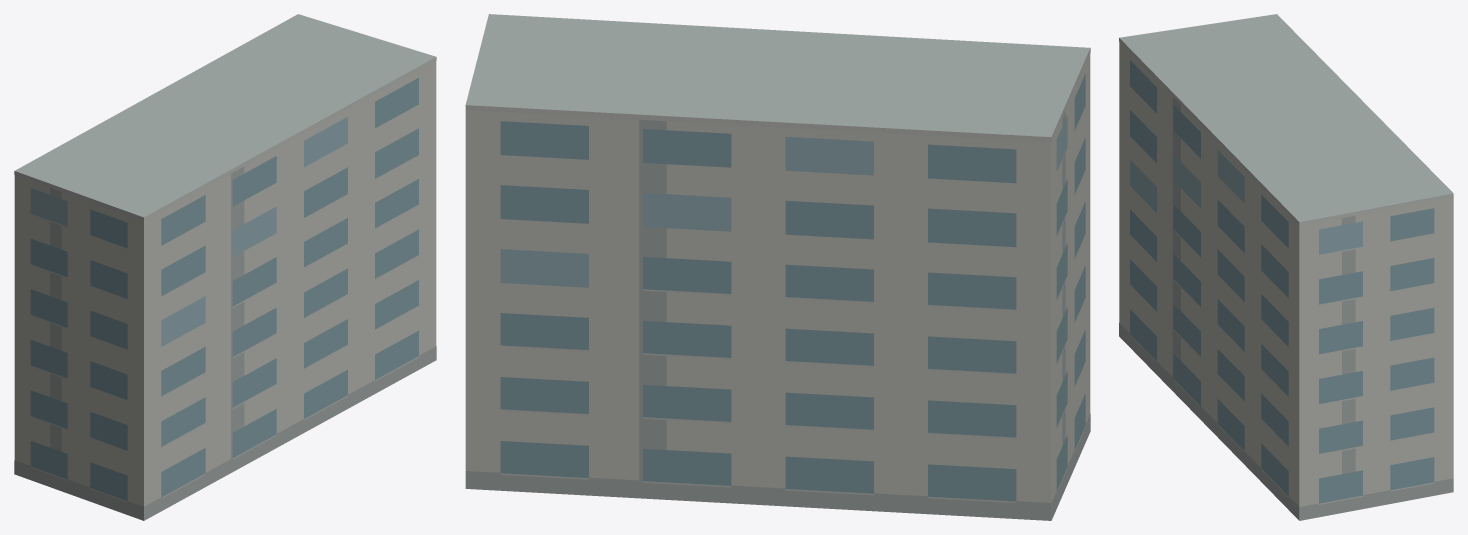
Rendered from survey-upis-32523649.glb.
The picture shows the model from 3 angles, left to right: view 1: azimuth 30°, elevation 25°; view 2: azimuth 150°, elevation 25°; view 3: azimuth 270°, elevation 25°; orthographic projection. The views are drawn at different scales.
Parts seen in each view (by area): view 1: survey-upis-32523649.tmp; view 2: survey-upis-32523649.tmp; view 3: survey-upis-32523649.tmp.
Boxes of the visible parts, x1,y1,x2,y2 form: survey-upis-32523649.tmp: (14, 14, 436, 520); survey-upis-32523649.tmp: (465, 14, 1090, 520); survey-upis-32523649.tmp: (1119, 14, 1453, 520).
Bounding box in the file's own units: 27.36 × 18.3 × 18.59.
